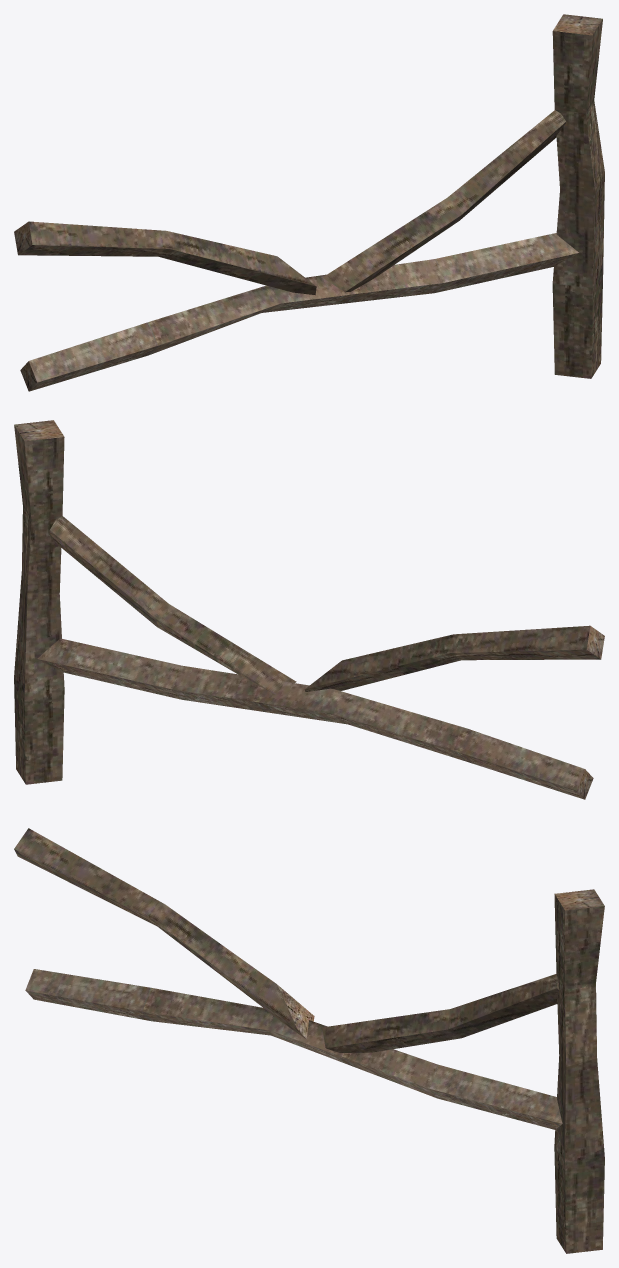
Rendered from lf_wooden_fence_broken_b.glb.
The picture shows the model from 3 angles, top to bottom: view 1: azimuth 30°, elevation 25°; view 2: azimuth 150°, elevation 25°; view 3: azimuth 330°, elevation 25°; orthographic projection.
Parts seen in each view (by area): view 1: wooden_fence_broken_alt; view 2: wooden_fence_broken_alt; view 3: wooden_fence_broken_alt.
Boxes of the visible parts, x1,y1,x2,y2 form: wooden_fence_broken_alt: (14,14,604,391); wooden_fence_broken_alt: (14,420,604,799); wooden_fence_broken_alt: (14,828,604,1253).
Size of the model in its own units: 2.14 by 1.2 by 0.1891.
1 material, 1 textured.
